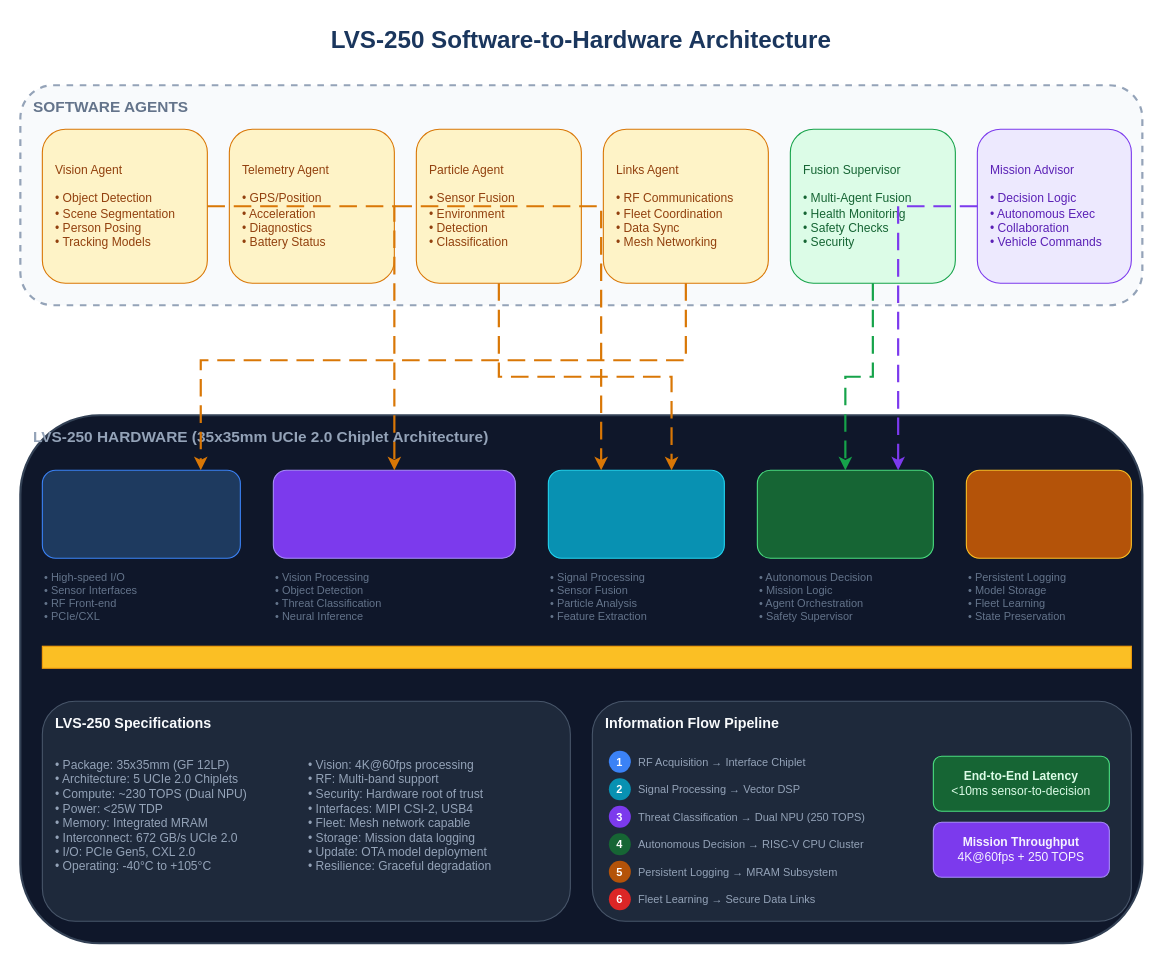
This 1162x963 diagram has some shape labels left out. Here are the shapes that lost their labels. From the top down, the centre of each, then its label:
At (x=140, y=513): "Interface Chiplet (UCIe 2.0)".
At (x=393, y=513): "Dual NPU (250 TOPS Combined)".
At (x=635, y=513): "Vector DSP".
At (x=844, y=513): "RISC-V CPU Cluster".
At (x=1048, y=513): "MRAM Subsystem (Non-Volatile)".
At (x=586, y=656): "UCIe 2.0 Interconnect Fabric (672 GB/s aggregate bandwidth)".
